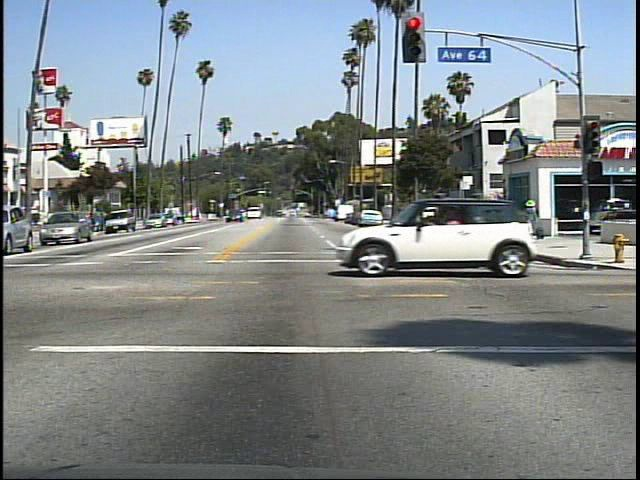person: (520, 195, 547, 248)
